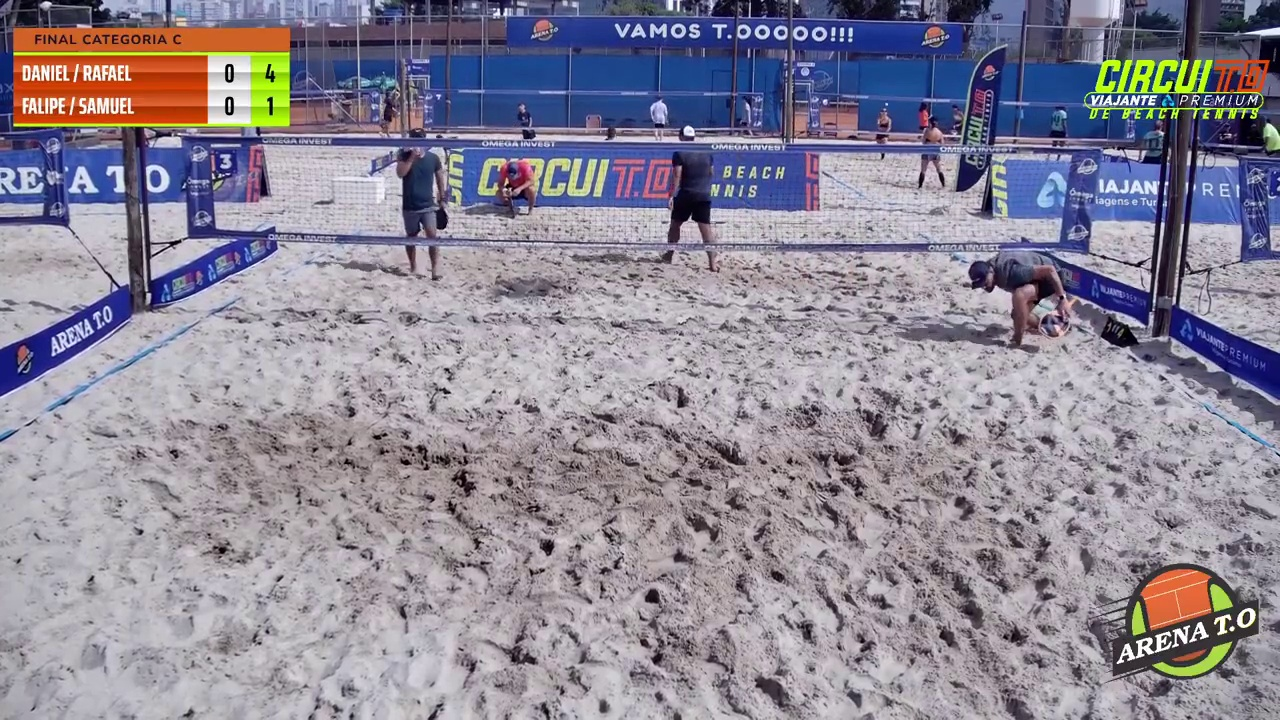court_line: (433, 0, 584, 355), (641, 0, 784, 337)
